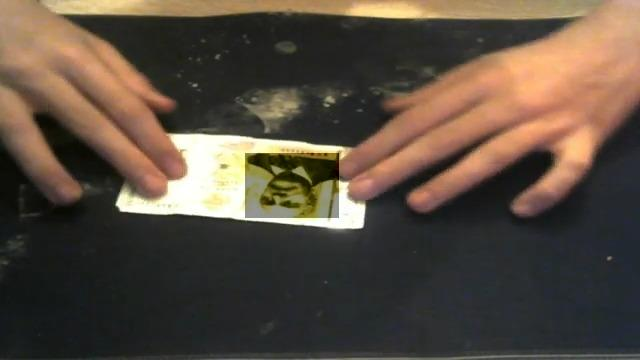10leva: (245, 153, 339, 218)
